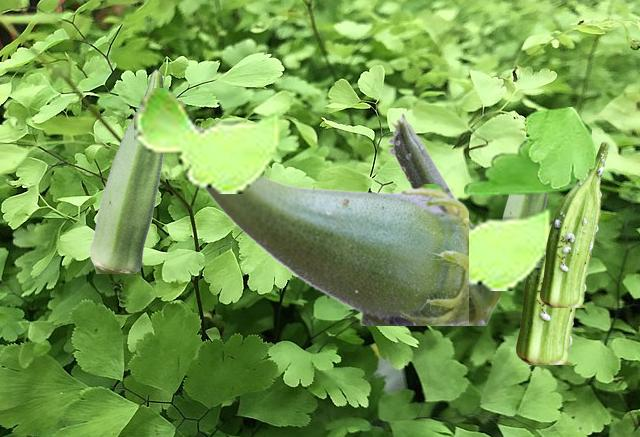okra: (200, 127, 467, 324), (387, 112, 499, 324), (89, 69, 164, 272), (540, 142, 608, 306), (516, 263, 579, 363), (503, 194, 548, 214)
